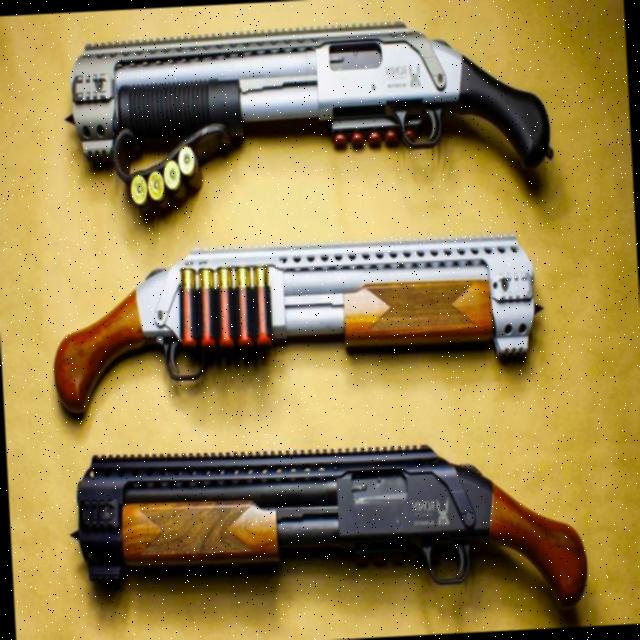Shotgun: (60, 0, 557, 248), (44, 216, 548, 440), (56, 436, 589, 640)
